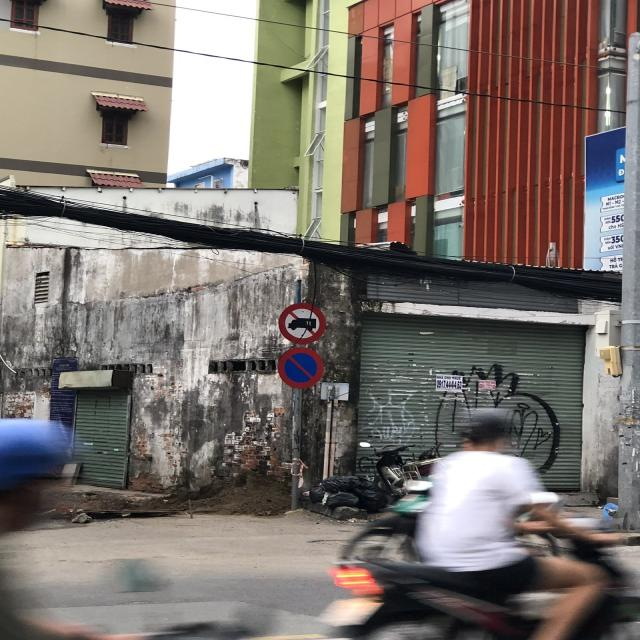Bien bao cam do xe: (277, 345, 325, 389)
Bien bao cam xe oto tai: (277, 302, 328, 346)
